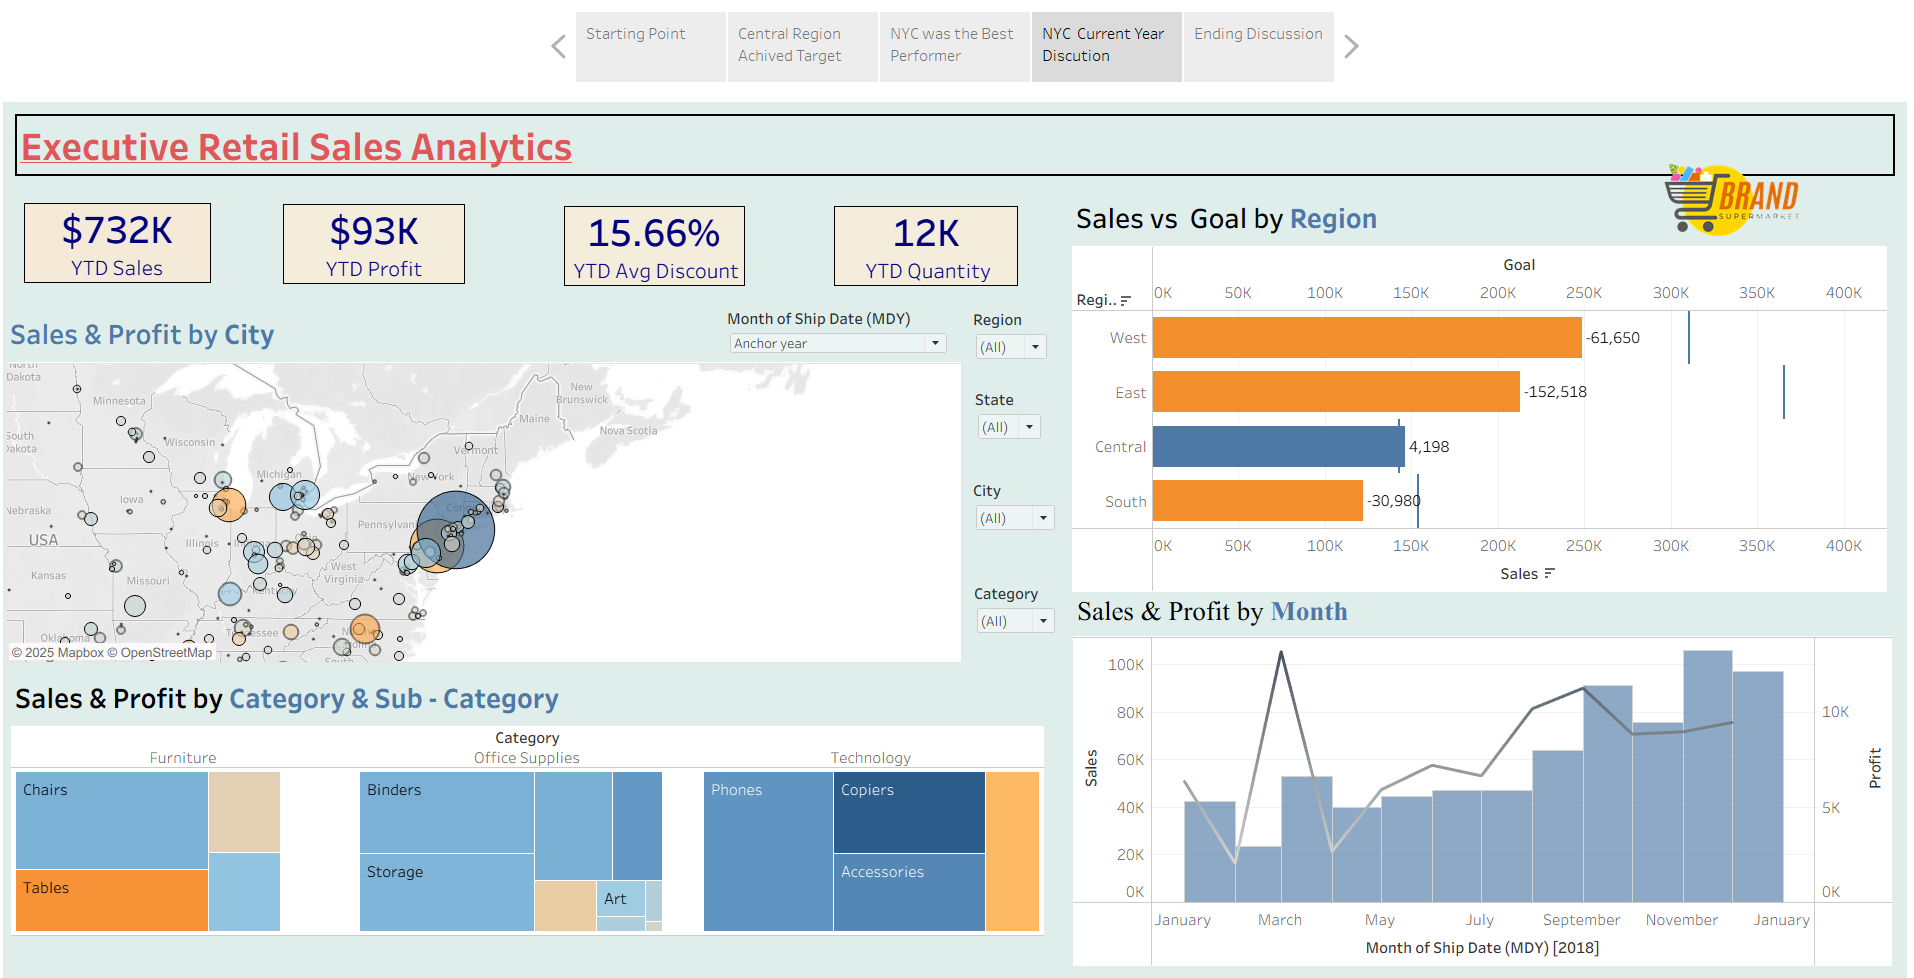

Layout of this report page (visuals, bound fields, positions):
{"tool":"tableau","page":{"name":"Dashboard 1","canvas":[1000,1000],"units":"permille","ordinal":0},"visuals":[{"type":"title","box":[4.8,10,990.3,87.4]},{"type":"image","param":"Image/supermarket-logo-template-with-shopping-cart_23-[number redacted].png","box":[826.8,13.7,163.6,194.8]},{"type":"worksheet","title":"Sales vs  Goal by Region","mark":"Automatic","rows":["Region"],"cols":["Sales","Goal"],"box":[561.3,106.1,428.5,453.2]},{"type":"worksheet","title":"Sheet 6","mark":"Automatic","box":[10.9,114.9,113.5,112.4]},{"type":"worksheet","title":"Sheet 6 (2)","mark":"Automatic","box":[147.2,116.1,111,103.6]},{"type":"worksheet","title":"YTD Avg Discound","mark":"Automatic","box":[294.5,118.6,109.8,101.1]},{"type":"worksheet","title":"Sheet 6 (3)","mark":"Automatic","box":[436.3,118.6,112.9,107.4]},{"type":"filter","title":"Sales & Profit by Month","param":"[federated.0hnb2jl033wxgv19xz3st11ub5jo].[tmn:Ship Date (MDY):qk]","box":[380.2,234.7,117.1,99.9]},{"type":"filter","title":"Sales vs  Goal by Region","param":"[federated.0hnb2jl033wxgv19xz3st11ub5jo].[none:Region:nk]","box":[509.4,236,40.4,79.9]},{"type":"worksheet","title":"Sales & Profit by City","mark":"Automatic","box":[1.8,238.5,502.1,402]},{"type":"filter","title":"Sales & Profit by City","param":"[federated.0hnb2jl033wxgv19xz3st11ub5jo].[none:State:nk]","box":[510.6,327.1,36.2,81.2]},{"type":"filter","title":"Sales & Profit by City","param":"[federated.0hnb2jl033wxgv19xz3st11ub5jo].[none:City:nk]","box":[509.4,432,44.7,92.4]},{"type":"filter","title":"Sales & Profit by Category & Sub - Category","param":"[federated.0hnb2jl033wxgv19xz3st11ub5jo].[none:Category:nk]","box":[510,549.3,44.1,94.9]},{"type":"worksheet","title":"Sales & Profit by Month","mark":"Automatic","rows":["Sales","Profit"],"cols":["Ship Date (MDY)"],"box":[561.9,559.3,430.9,427]},{"type":"worksheet","title":"Sales & Profit by Category & Sub - Category","mark":"Automatic","cols":["Category"],"box":[4.2,654.2,542.5,329.6]}]}

Visuals, with their boxes on the dashboard's canvas, which has no fixed pixel size, in thousandths of its width and height (x1, y1, x2, y2). These are canvas units, not pixel positions in the 1914x978 screenshot, which may show the page scaled, cropped or inside an application window:
title: <region>5, 10, 995, 97</region>
image: <region>827, 14, 990, 208</region>
"Sales vs  Goal by Region" worksheet: <region>561, 106, 990, 559</region>
"Sheet 6" worksheet: <region>11, 115, 124, 227</region>
"Sheet 6 (2)" worksheet: <region>147, 116, 258, 220</region>
"YTD Avg Discound" worksheet: <region>294, 119, 404, 220</region>
"Sheet 6 (3)" worksheet: <region>436, 119, 549, 226</region>
"Sales & Profit by Month" filter: <region>380, 235, 497, 335</region>
"Sales vs  Goal by Region" filter: <region>509, 236, 550, 316</region>
"Sales & Profit by City" worksheet: <region>2, 238, 504, 640</region>
"Sales & Profit by City" filter: <region>511, 327, 547, 408</region>
"Sales & Profit by City" filter: <region>509, 432, 554, 524</region>
"Sales & Profit by Category & Sub - Category" filter: <region>510, 549, 554, 644</region>
"Sales & Profit by Month" worksheet: <region>562, 559, 993, 986</region>
"Sales & Profit by Category & Sub - Category" worksheet: <region>4, 654, 547, 984</region>
